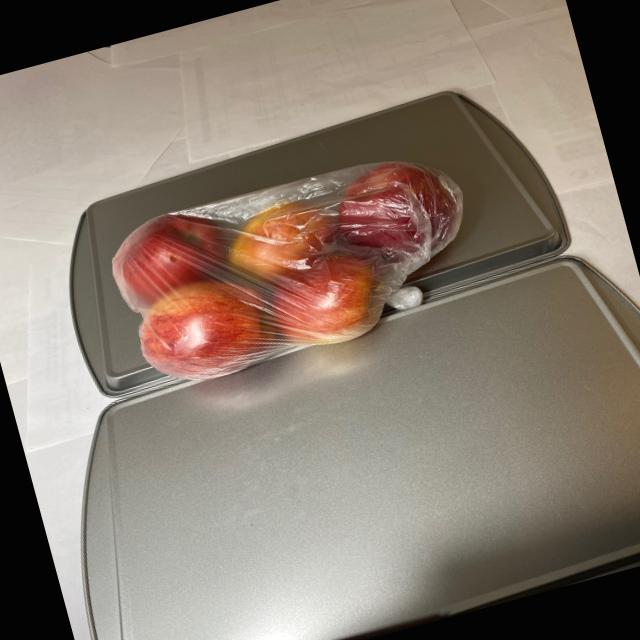apple: (100, 136, 492, 392)
